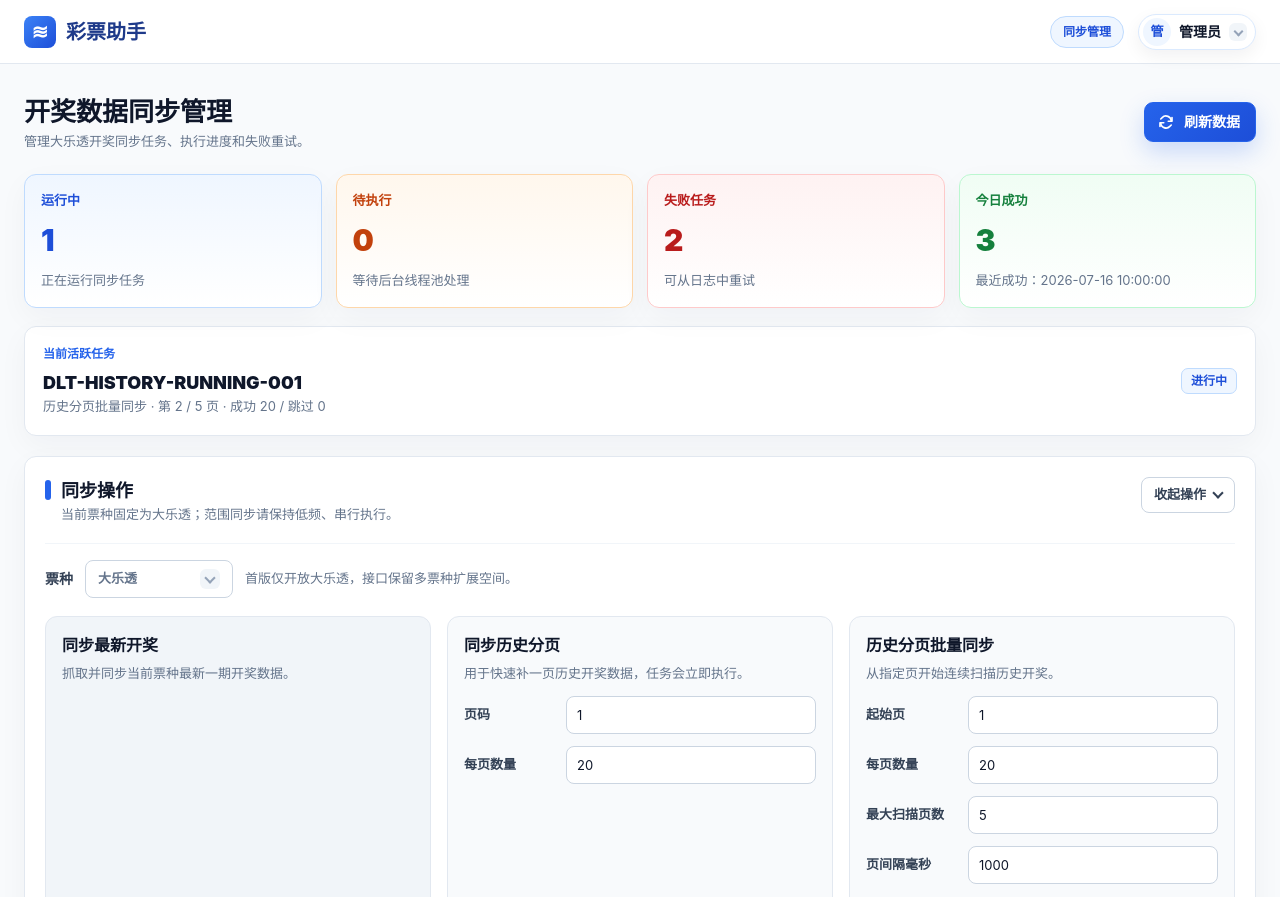
Test: AdminLotterySyncView › shows lottery type as a dropdown like the public assistant page
The width and height of the screenshot is (1280, 897).
Click the button with class "ticket-button": click(159, 579) [85,560,233,598]
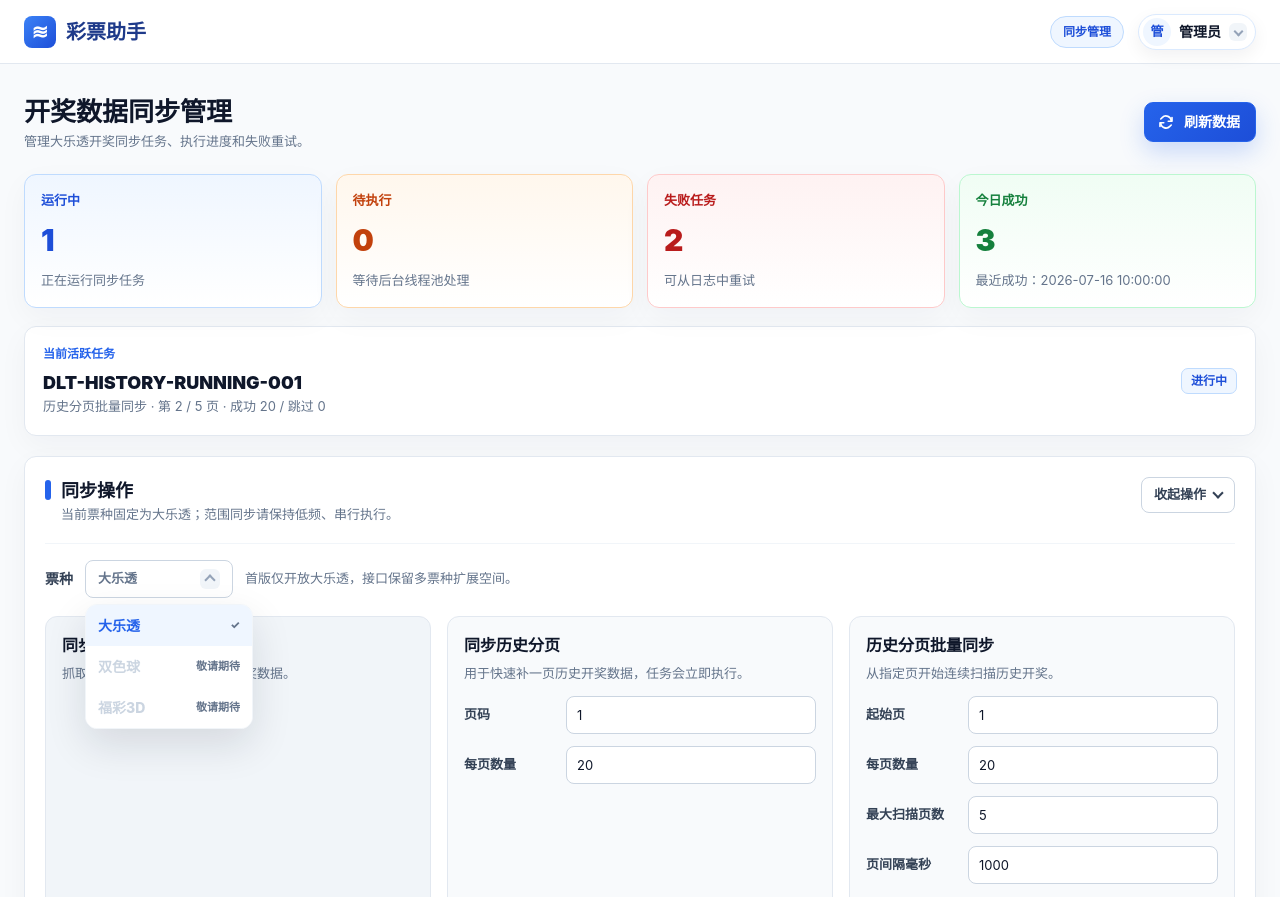
Expected: the element with class "ticket-menu" is shown, [85,604,253,729]
Expected: the element with class "ticket-menu" shows "大乐透", [86,605,252,646]
Expected: the element with class "ticket-menu" shows "敬请期待", [86,646,252,687]
